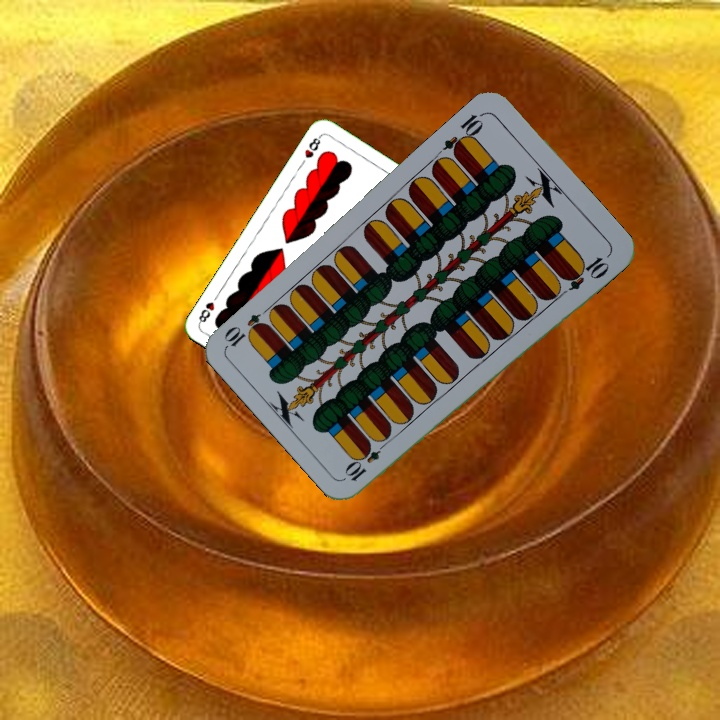E10: (341, 435, 391, 484), (439, 108, 487, 159)
H8: (300, 131, 324, 161)
